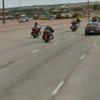Motorcycle: (23, 18, 60, 46)
